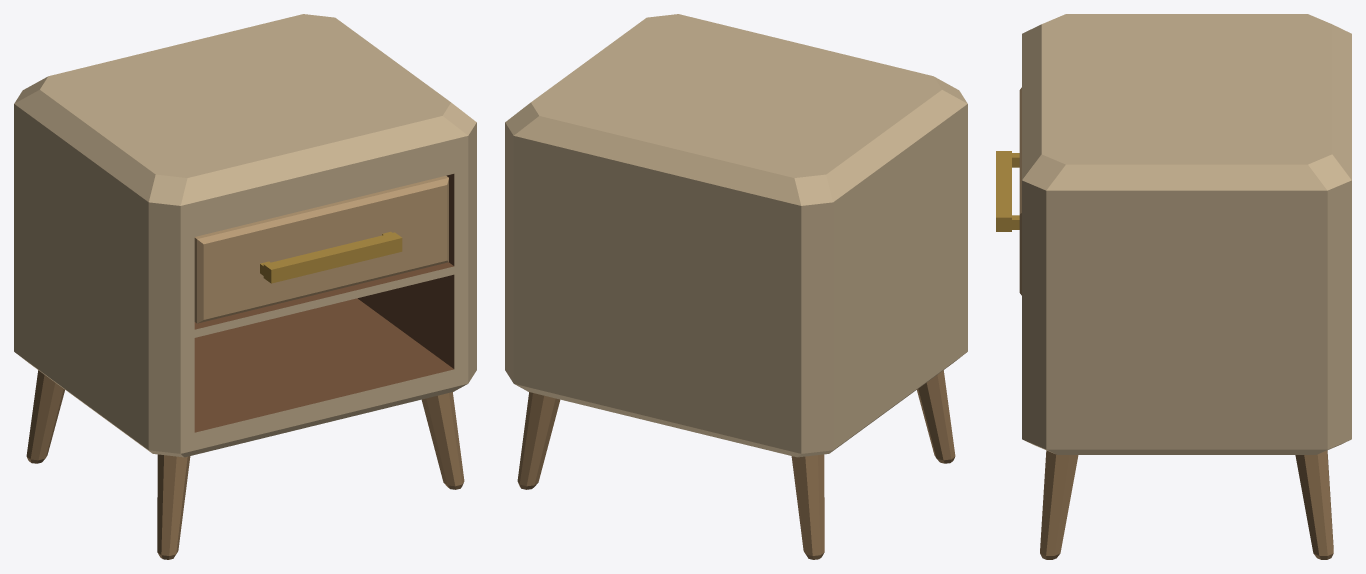
File: bedside-table-3f2b80.glb
3 renders of one model, left to right at view 1: azimuth 30°, elevation 25°; view 2: azimuth 150°, elevation 25°; view 3: azimuth 270°, elevation 25°, orthographic. The views are drawn at different scales.
Visible parts, largest first — view 1: bedside-table, drawer; view 2: bedside-table; view 3: bedside-table, drawer.
Boxes of the visible parts, x1,y1,x2,y2 form: bedside-table: (14, 14, 476, 559); drawer: (194, 176, 448, 323); bedside-table: (505, 14, 967, 559); bedside-table: (1022, 14, 1351, 559); drawer: (996, 87, 1021, 295).
Bounding box in the file's own units: 0.5 × 0.55 × 0.4497.
